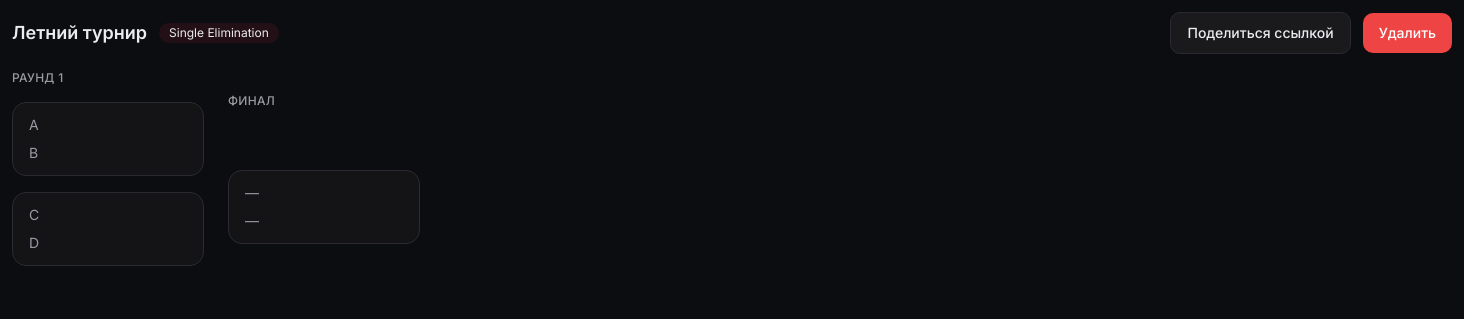
BracketDetailPage › enables sharing and shows the public link
The width and height of the screenshot is (1464, 319).
Click the button "Поделиться ссылкой".
click(1261, 33)  # box x1=1170 y1=12 x2=1351 y2=54
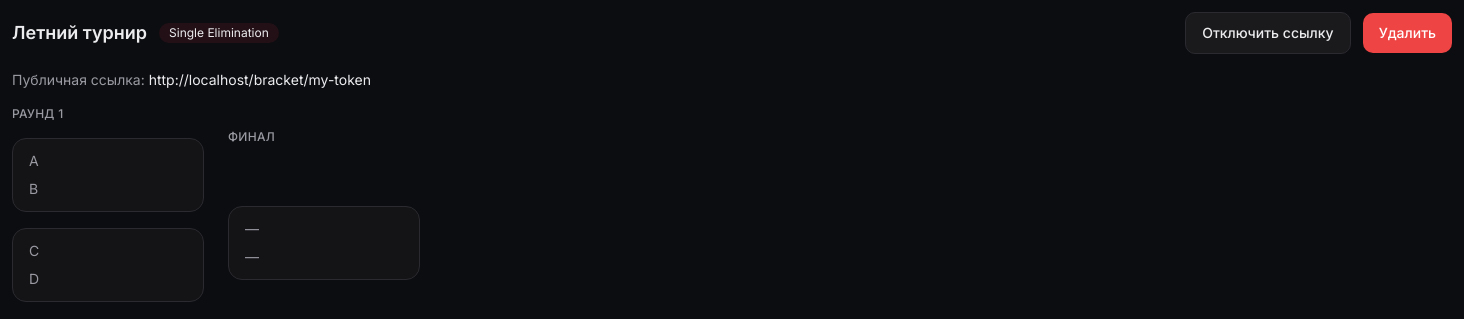
Expected: the text "http://localhost/bracket/my-token" is shown, x1=149 y1=71 x2=371 y2=88
